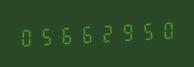five: (37, 23, 56, 49), (137, 17, 156, 43)
nine: (117, 18, 136, 44)
six: (57, 22, 76, 48), (77, 21, 96, 47)
two: (97, 19, 116, 45)
zero: (17, 24, 36, 50), (157, 16, 176, 42)
